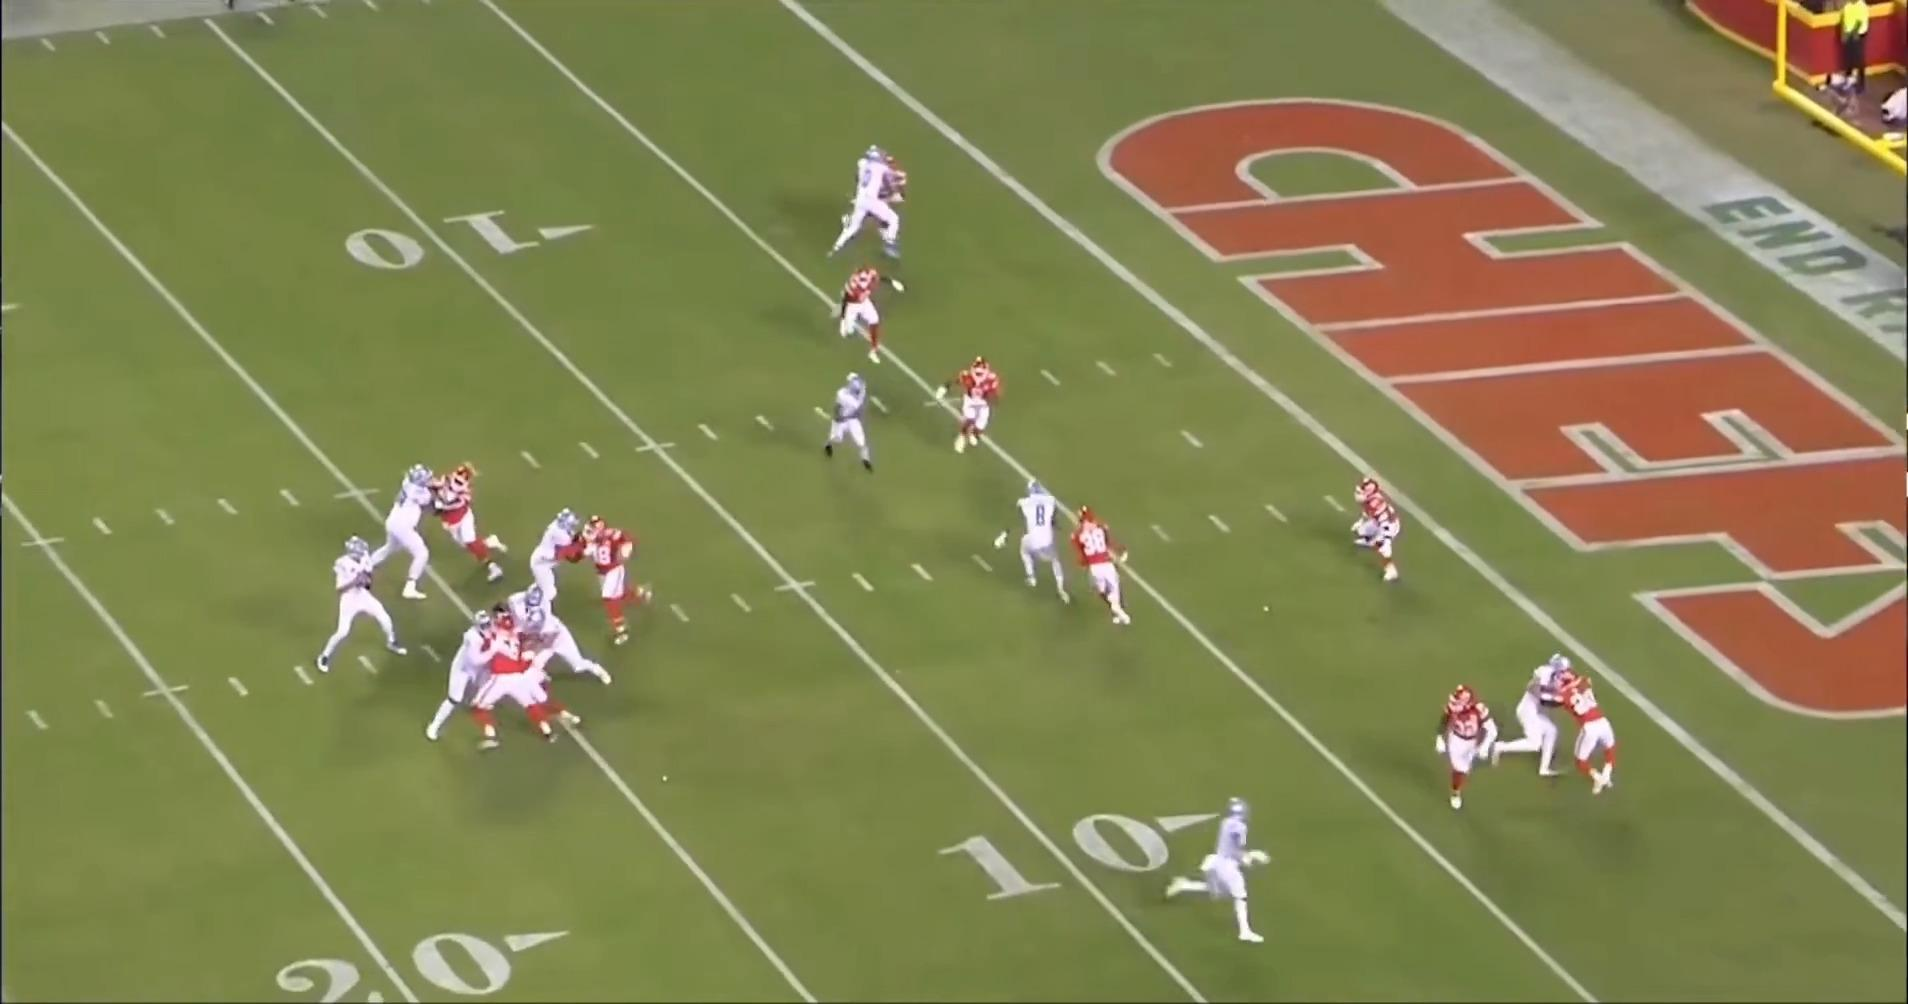defense: (473, 610, 555, 747), (421, 463, 504, 586), (587, 516, 657, 650), (1064, 505, 1134, 629), (1560, 667, 1622, 802), (1435, 683, 1498, 813), (842, 147, 917, 253), (941, 351, 1010, 456), (1349, 479, 1408, 590), (837, 265, 900, 366), (518, 634, 585, 726)
oline: (355, 461, 446, 607), (426, 606, 513, 745), (516, 607, 619, 687), (523, 504, 593, 608), (498, 582, 560, 633)
qb: (309, 529, 413, 675)
skill: (1169, 789, 1275, 947), (1495, 652, 1578, 780), (831, 143, 917, 266), (988, 478, 1068, 603), (820, 373, 886, 475)
